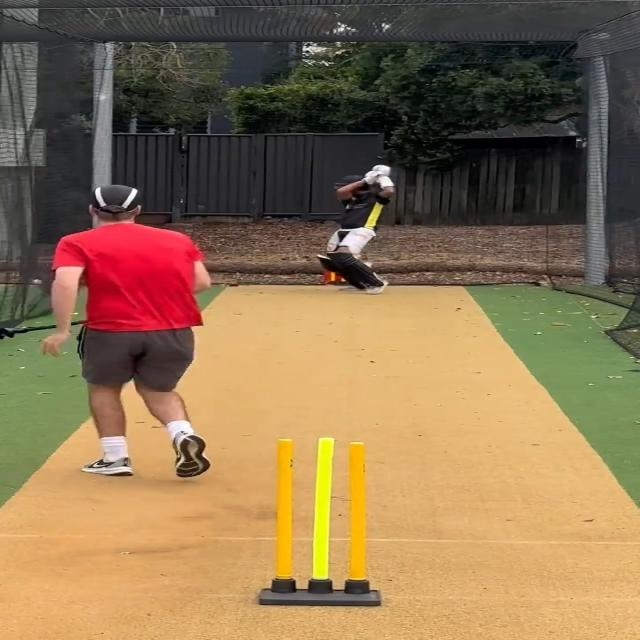stump: (262, 434, 381, 610)
